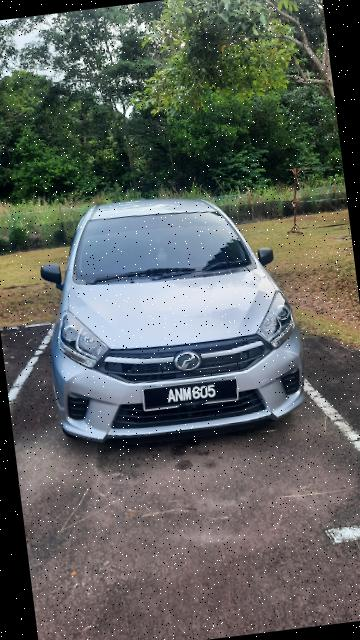License_Plate: (140, 372, 242, 415)
car: (22, 179, 311, 454)
